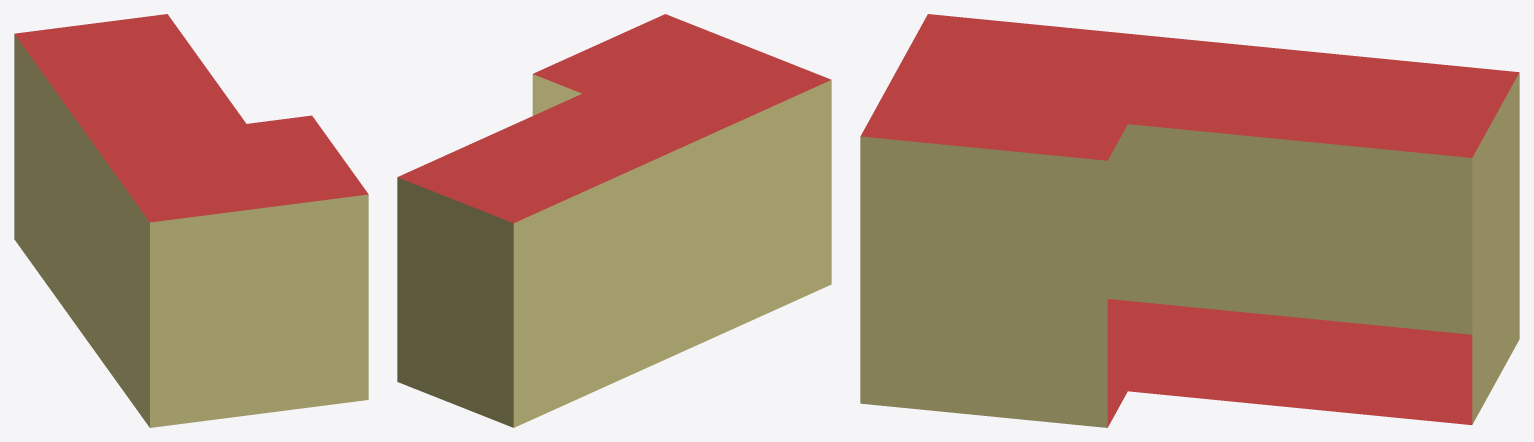
3 renders of one model, left to right at view 1: azimuth 30°, elevation 25°; view 2: azimuth 150°, elevation 25°; view 3: azimuth 270°, elevation 25°, orthographic. The views are drawn at different scales.
Parts seen in each view (by area): view 1: group_4, group_3; view 2: group_4, group_3; view 3: group_4, group_3, group_5.
Part boxes in pixels (x1,y1,x2,y2): group_4: (14, 34, 368, 427); group_3: (14, 14, 368, 222); group_4: (397, 74, 831, 427); group_3: (397, 14, 831, 223); group_4: (860, 72, 1519, 427); group_3: (861, 14, 1519, 160); group_5: (1107, 299, 1472, 427).
Bounding box in the file's own units: 6.5 × 12.34 × 5.52.
